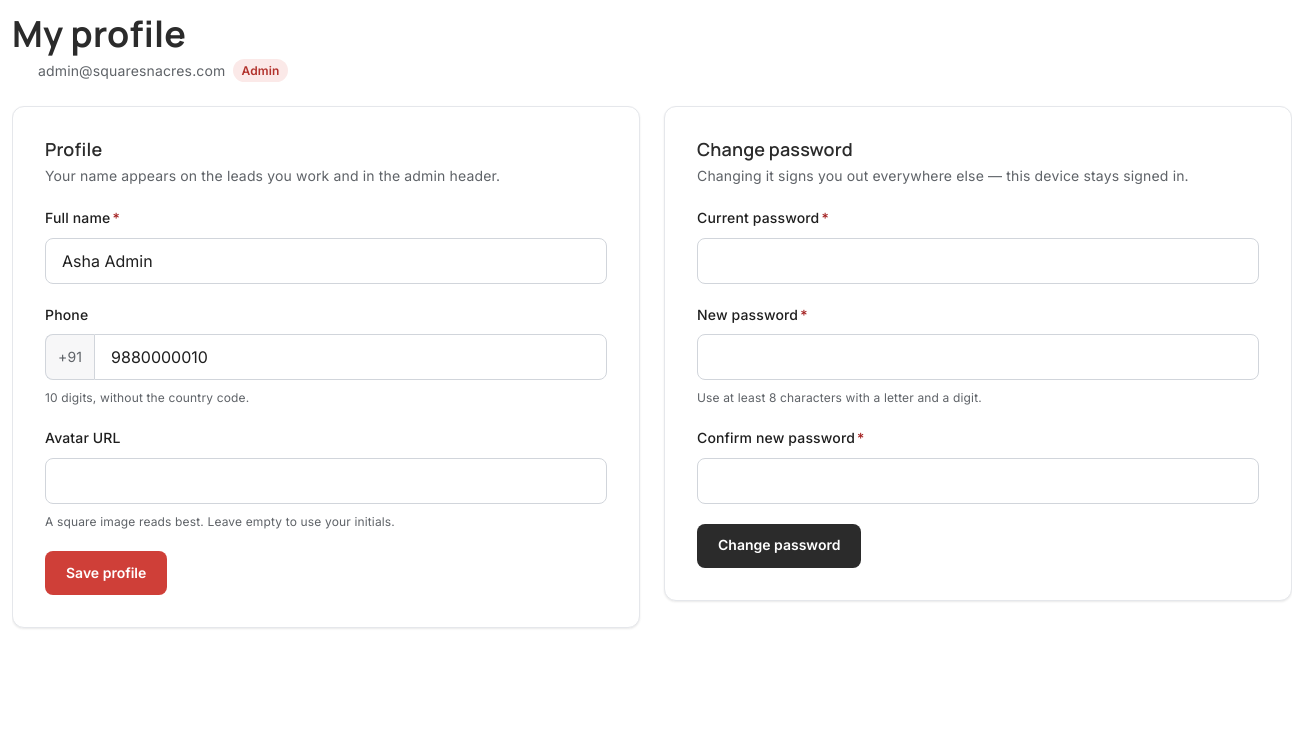
ProfilePage — QA-64 › names the avatar field in an API message
Type "https://cdn.example.com/asha.png" into the field labelled "Avatar URL".
click(326, 481); type("https://cdn.example.com/asha.png")  # box [45, 458, 607, 504]
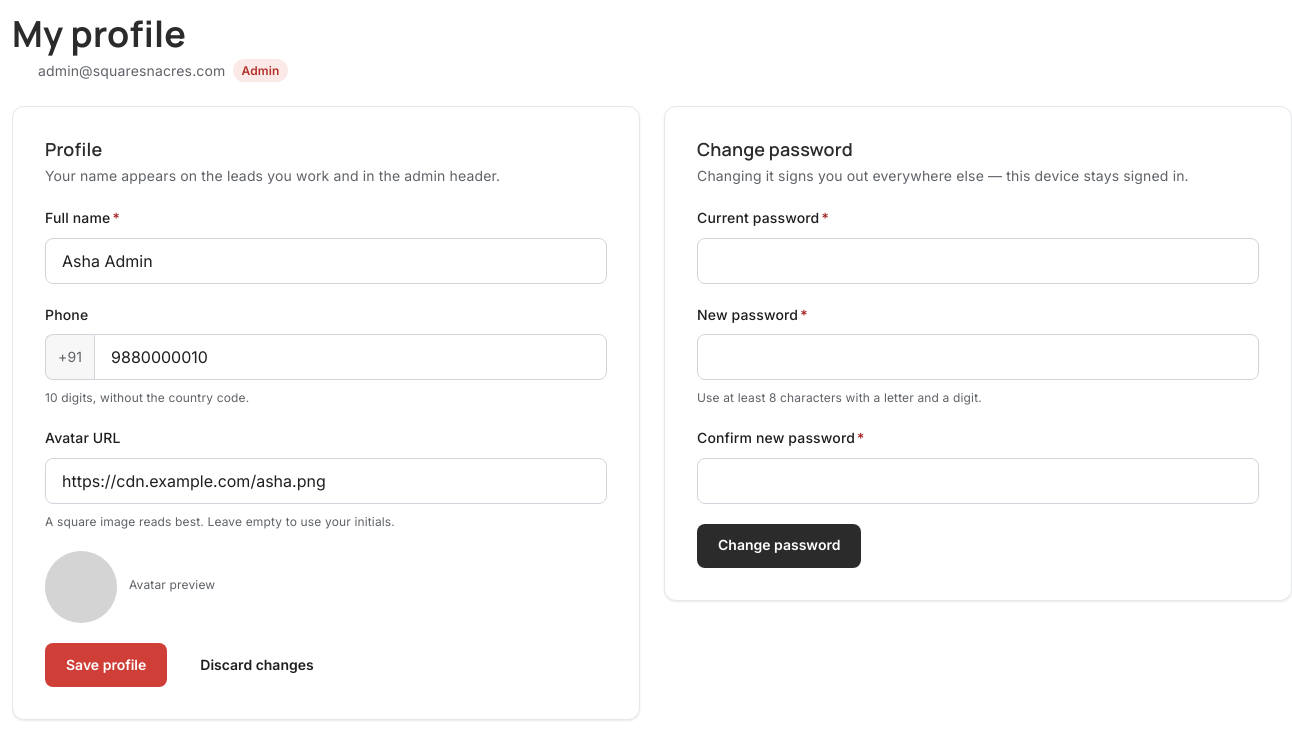
Click the button "Save profile".
click(106, 665)  # box [45, 643, 167, 687]
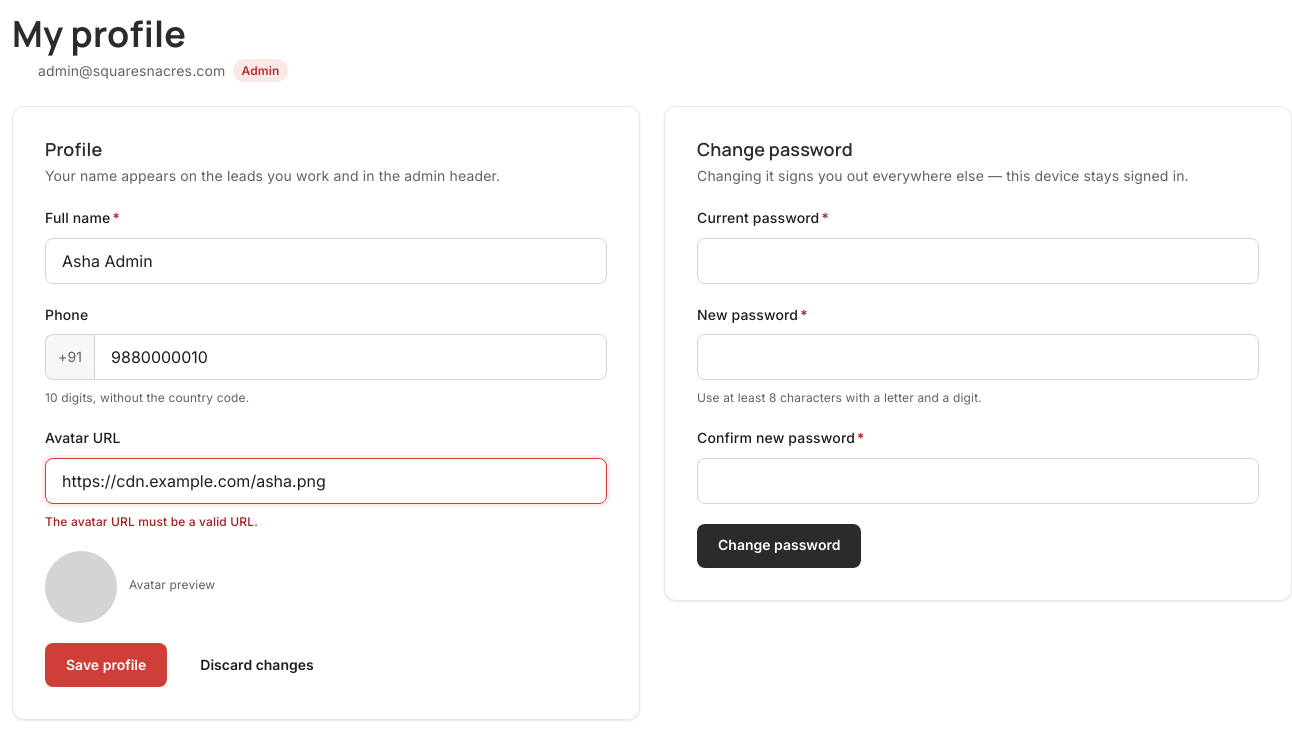
Now the text "The avatar URL must be a valid URL." is shown, box [45, 514, 258, 529]
